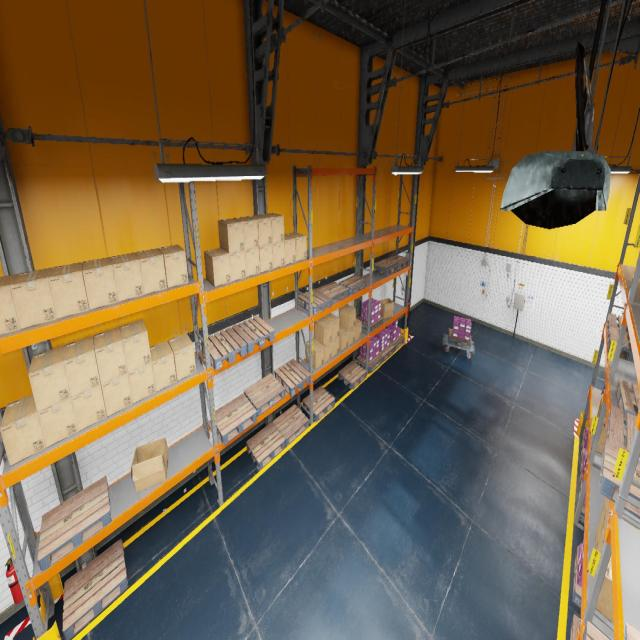box: (0, 394, 46, 466), (28, 345, 71, 412), (9, 268, 56, 329), (48, 262, 89, 319), (64, 335, 100, 397), (131, 437, 168, 492), (38, 398, 78, 448), (94, 327, 128, 384), (82, 257, 118, 310), (110, 252, 144, 302), (71, 384, 106, 432), (120, 320, 152, 372), (135, 248, 167, 294), (603, 504, 640, 542), (150, 340, 177, 392), (168, 332, 196, 381), (101, 373, 132, 417), (158, 245, 188, 288), (596, 555, 614, 623), (0, 274, 20, 335), (128, 362, 156, 403), (204, 248, 231, 287), (218, 218, 244, 253), (233, 217, 259, 250), (248, 214, 272, 246), (262, 213, 284, 243), (285, 232, 306, 262), (305, 338, 324, 369), (229, 250, 246, 282), (314, 317, 332, 345), (244, 247, 260, 277), (338, 304, 356, 329), (596, 417, 607, 454), (324, 313, 339, 340), (259, 244, 273, 272), (597, 527, 611, 554), (284, 234, 296, 265), (272, 241, 285, 269), (595, 507, 603, 550), (340, 324, 355, 346), (379, 298, 394, 319), (339, 324, 348, 351), (321, 341, 332, 363), (604, 497, 610, 526), (355, 318, 362, 342), (332, 336, 339, 358), (597, 397, 602, 417), (601, 384, 605, 396), (605, 410, 606, 417)
pallets: (38, 476, 112, 572), (62, 538, 128, 639), (599, 439, 640, 519), (215, 394, 257, 445), (201, 327, 247, 370), (247, 422, 286, 470), (243, 373, 284, 417), (606, 405, 640, 456), (232, 315, 274, 353), (273, 404, 308, 446), (274, 358, 311, 396), (302, 386, 335, 421), (616, 380, 640, 424), (607, 326, 634, 362), (298, 288, 332, 314), (338, 361, 367, 389), (316, 281, 349, 304), (572, 546, 582, 608), (339, 275, 366, 294), (448, 328, 472, 349), (357, 354, 383, 373), (606, 313, 628, 335), (583, 621, 609, 639), (372, 259, 398, 275), (357, 316, 383, 332), (385, 254, 409, 269), (578, 480, 585, 524), (623, 624, 640, 640), (379, 344, 394, 362), (570, 614, 580, 639), (389, 336, 404, 352), (581, 431, 587, 460), (579, 454, 584, 486)
